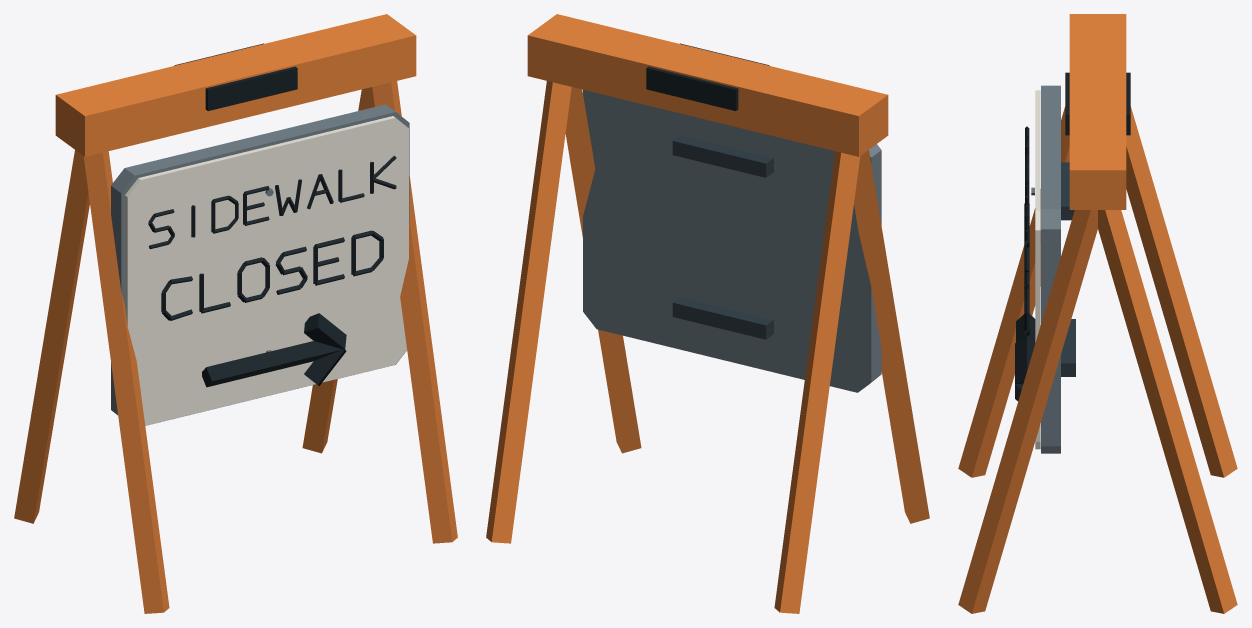
Rendered from b02_sidewalk_closed_a_frame.glb.
3 renders of one model, left to right at view 1: azimuth 30°, elevation 25°; view 2: azimuth 150°, elevation 25°; view 3: azimuth 270°, elevation 25°, orthographic. The views are drawn at different scales.
Visible parts, largest first — view 1: b02_sidewalk_closed_a_frame; view 2: b02_sidewalk_closed_a_frame; view 3: b02_sidewalk_closed_a_frame.
Part boxes in pixels (left/top/right/bottom): b02_sidewalk_closed_a_frame: left=14, top=14, right=457, bottom=613; b02_sidewalk_closed_a_frame: left=486, top=14, right=929, bottom=613; b02_sidewalk_closed_a_frame: left=958, top=14, right=1237, bottom=613.
Bounding box in the file's own units: 0.85 × 1.14 × 0.6418.
